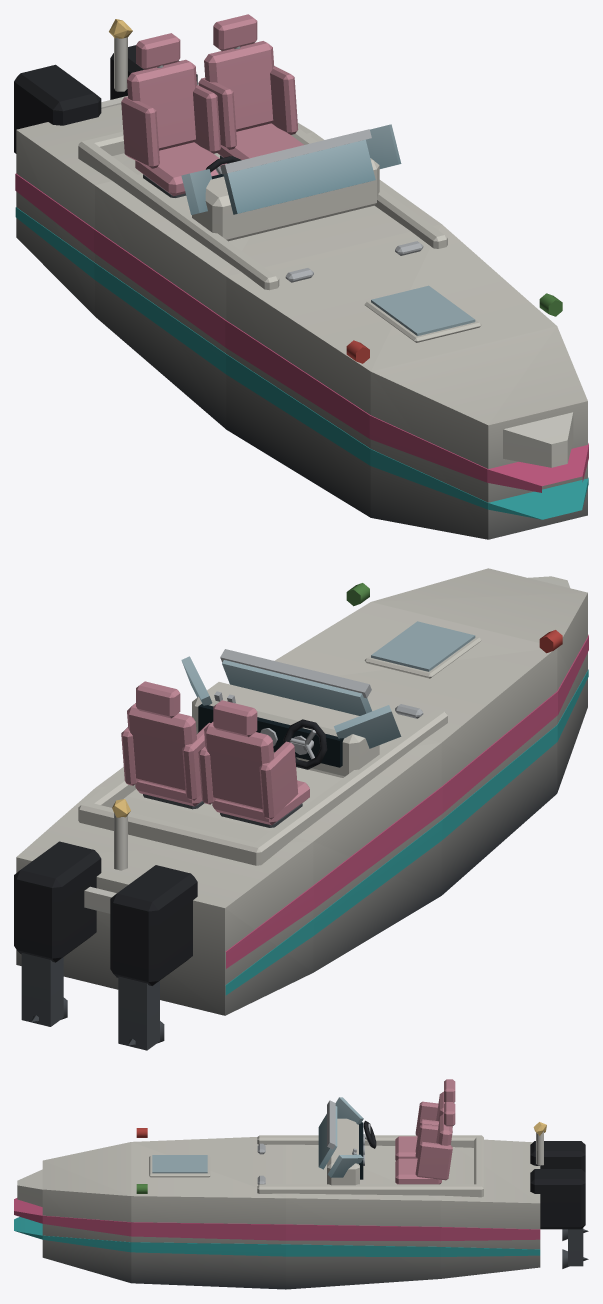
Rendered from cigarette_speedboat.glb.
3 views of the same model, one above another, from view 1: azimuth 30°, elevation 25°; view 2: azimuth 150°, elevation 25°; view 3: azimuth 270°, elevation 25° (orthographic). The views are drawn at different scales.
Visible parts, largest first — view 1: cigarette_speedboat; view 2: cigarette_speedboat; view 3: cigarette_speedboat.
Boxes of the visible parts, x1=… form: cigarette_speedboat: x1=14, y1=14, x2=588, y2=539; cigarette_speedboat: x1=14, y1=568, x2=588, y2=1050; cigarette_speedboat: x1=14, y1=1079, x2=588, y2=1289.
Size of the model in its own units: 1.76 by 2.08 by 6.66.
